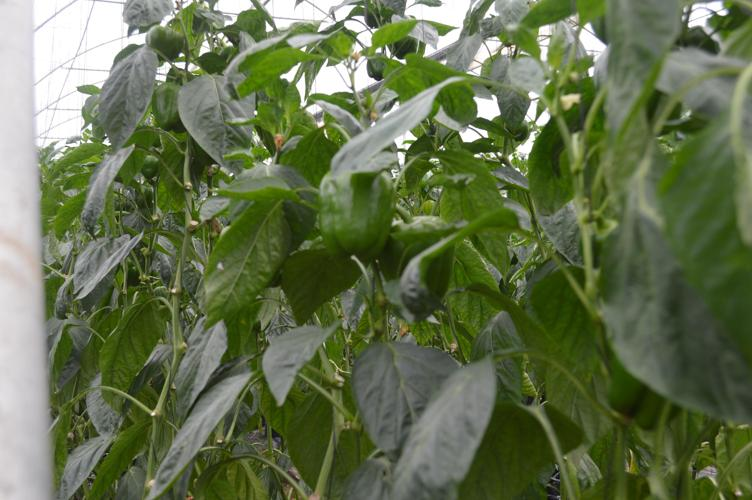BellPepper: (305, 167, 413, 269), (380, 217, 463, 329), (142, 80, 190, 143), (134, 15, 189, 66)
